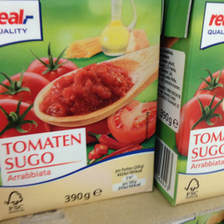tomato_sauce: (1, 1, 163, 224)
